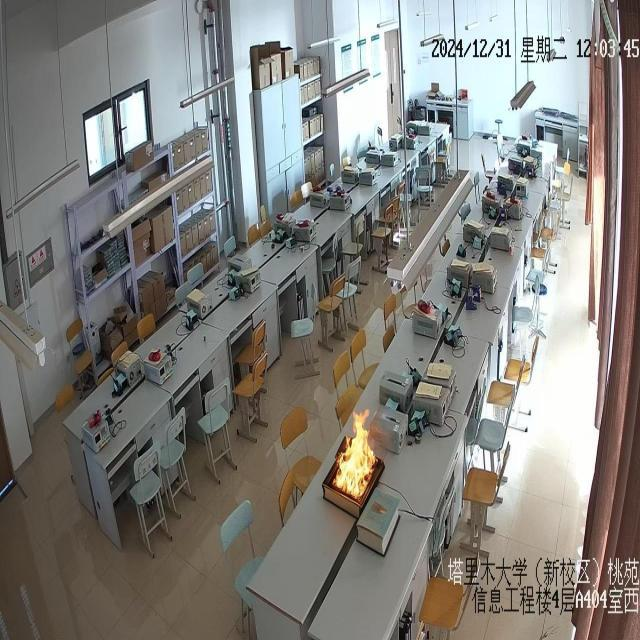smoke: (334, 404, 375, 496)
